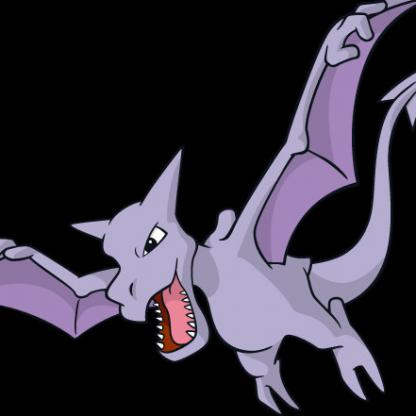Aerodactyl: (5, 3, 416, 411)
